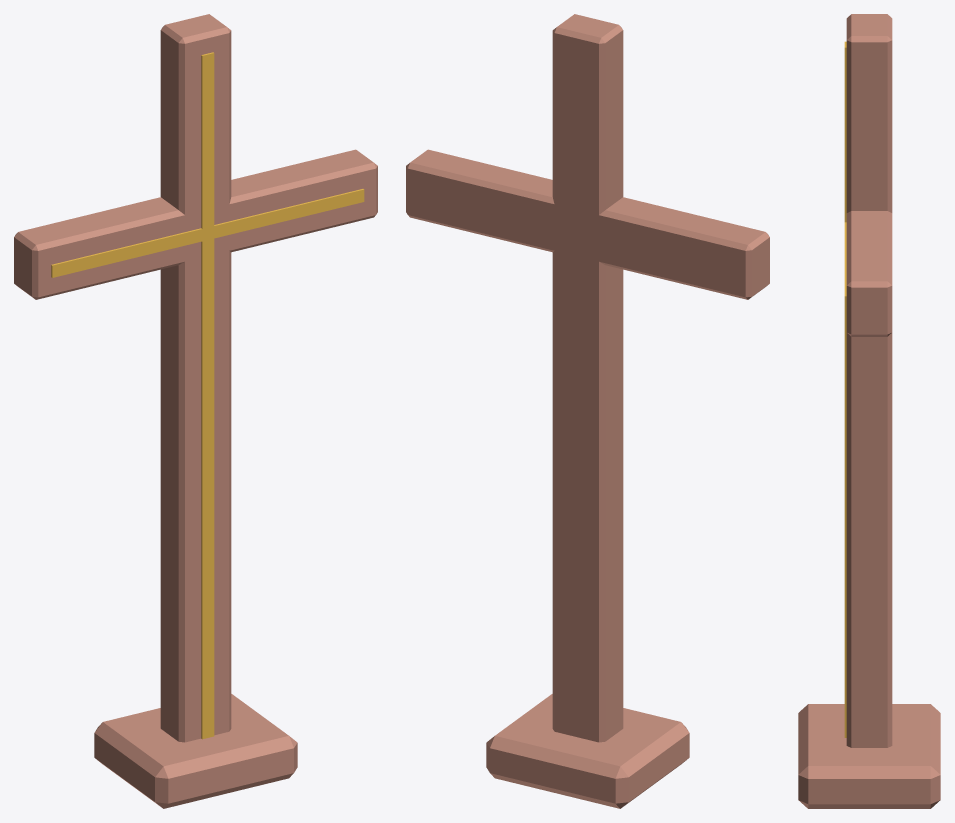
The picture shows the model from 3 angles, left to right: view 1: azimuth 30°, elevation 25°; view 2: azimuth 150°, elevation 25°; view 3: azimuth 270°, elevation 25°; orthographic projection.
Visible parts, largest first — view 1: Cross upright, Cross arm, Stepped plinth, Inset upright, Inset arm; view 2: Cross upright, Cross arm, Stepped plinth; view 3: Cross upright, Stepped plinth, Cross arm, Inset upright.
Part boxes in pixels (<box>): Cross upright: <box>160,14,231,742</box>; Cross arm: <box>14,149,377,299</box>; Stepped plinth: <box>94,694,297,808</box>; Inset upright: <box>201,52,214,739</box>; Inset arm: <box>51,189,364,277</box>; Cross upright: <box>552,14,623,742</box>; Cross arm: <box>406,149,769,299</box>; Stepped plinth: <box>486,694,689,808</box>; Cross upright: <box>846,14,892,747</box>; Stepped plinth: <box>798,704,940,808</box>; Cross arm: <box>846,211,892,336</box>; Inset upright: <box>844,41,846,737</box>.
Bounding box in the file's own units: 1.02 × 2.1 × 0.36.
1 material, 1 textured.
